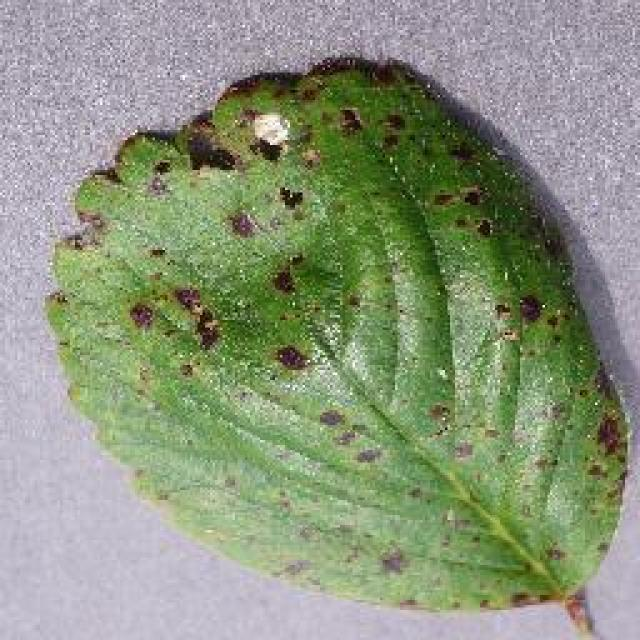Strawberry___Leaf_scorch: (83, 76, 605, 548)
